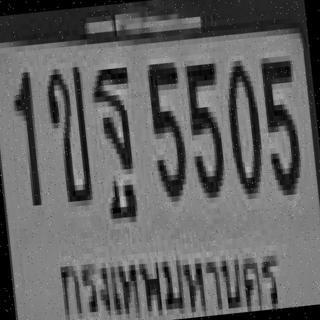A02: (43, 61, 92, 203)
A16: (88, 62, 140, 204)
N00: (221, 54, 264, 195)
N01: (8, 67, 40, 201)
N05: (258, 50, 303, 191), (144, 57, 188, 198), (182, 58, 227, 194)
P04: (49, 222, 286, 320)
